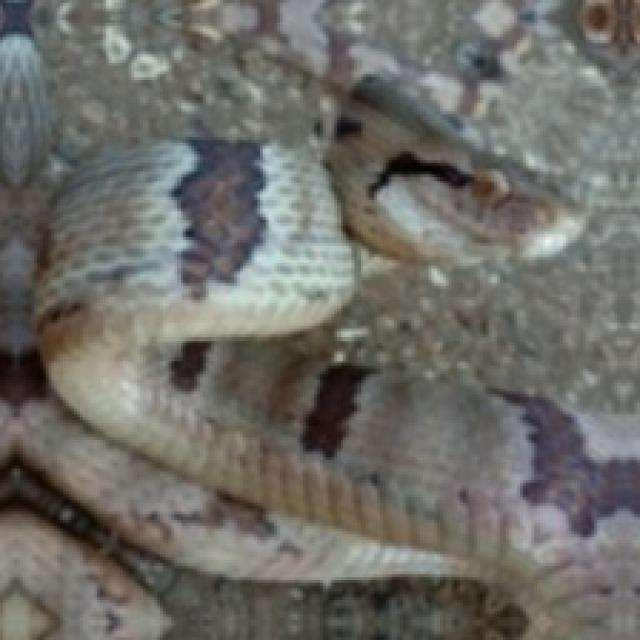dog-toothed cat snake: (0, 78, 640, 640)
